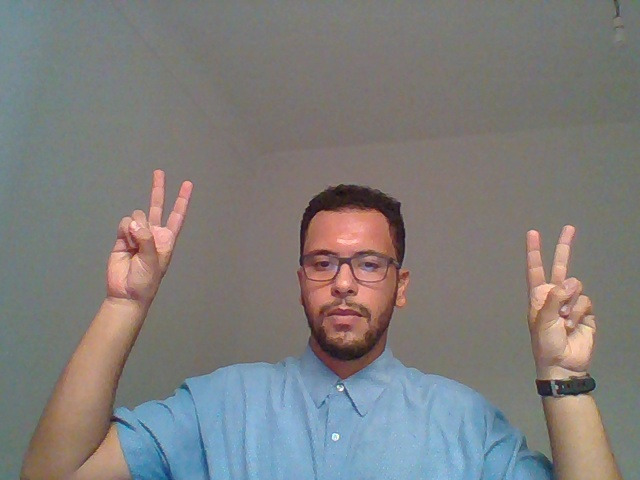vectory: (497, 211, 617, 473), (86, 151, 199, 412)
